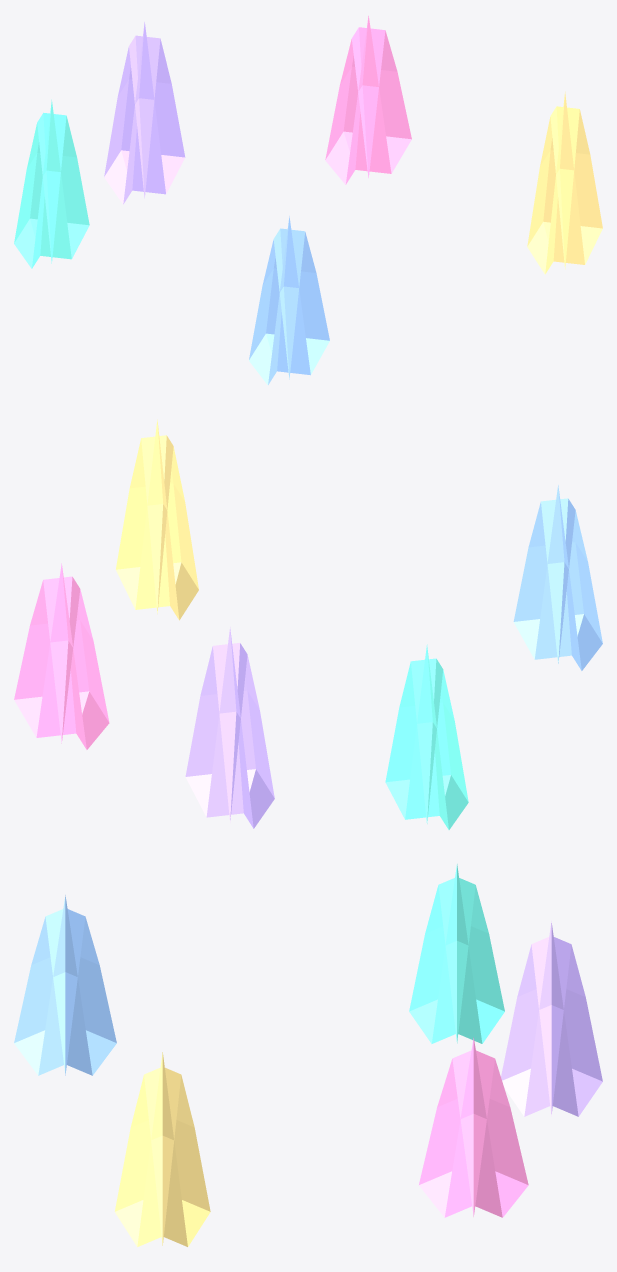
The model's file is crystal-room.glb.
The picture shows the model from 3 angles, top to bottom: view 1: azimuth 30°, elevation 25°; view 2: azimuth 150°, elevation 25°; view 3: azimuth 270°, elevation 25°; orthographic projection. The views are drawn at different scales.
Visible parts, largest first — view 1: Crystal 2, Crystal 3, Crystal 4, Crystal 5, Crystal 1; view 2: Crystal 2, Crystal 3, Crystal 4, Crystal 5, Crystal 1; view 3: Crystal 2, Crystal 3, Crystal 4, Crystal 5, Crystal 1.
Part boxes in pixels (x1,y1,x2,y2): Crystal 2: [104, 22, 185, 204]; Crystal 3: [325, 15, 411, 184]; Crystal 4: [527, 91, 602, 274]; Crystal 5: [249, 216, 329, 384]; Crystal 1: [14, 99, 89, 268]; Crystal 2: [185, 627, 274, 828]; Crystal 3: [14, 563, 109, 749]; Crystal 4: [115, 419, 198, 620]; Crystal 5: [513, 485, 602, 670]; Crystal 1: [385, 644, 468, 829]; Crystal 2: [501, 921, 602, 1116]; Crystal 3: [419, 1037, 528, 1217]; Crystal 4: [114, 1052, 210, 1246]; Crystal 5: [14, 895, 116, 1075]; Crystal 1: [409, 864, 504, 1043].
Size of the model in its own units: 2.08 by 0.78 by 2.12.
